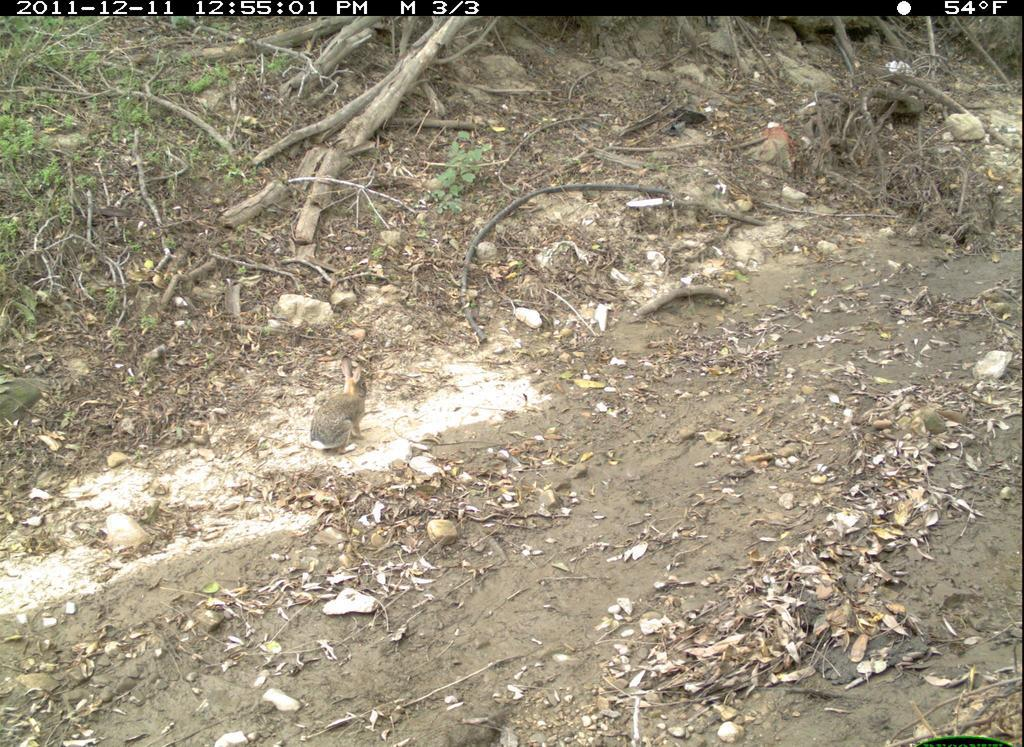rabbit: (305, 346, 376, 464)
